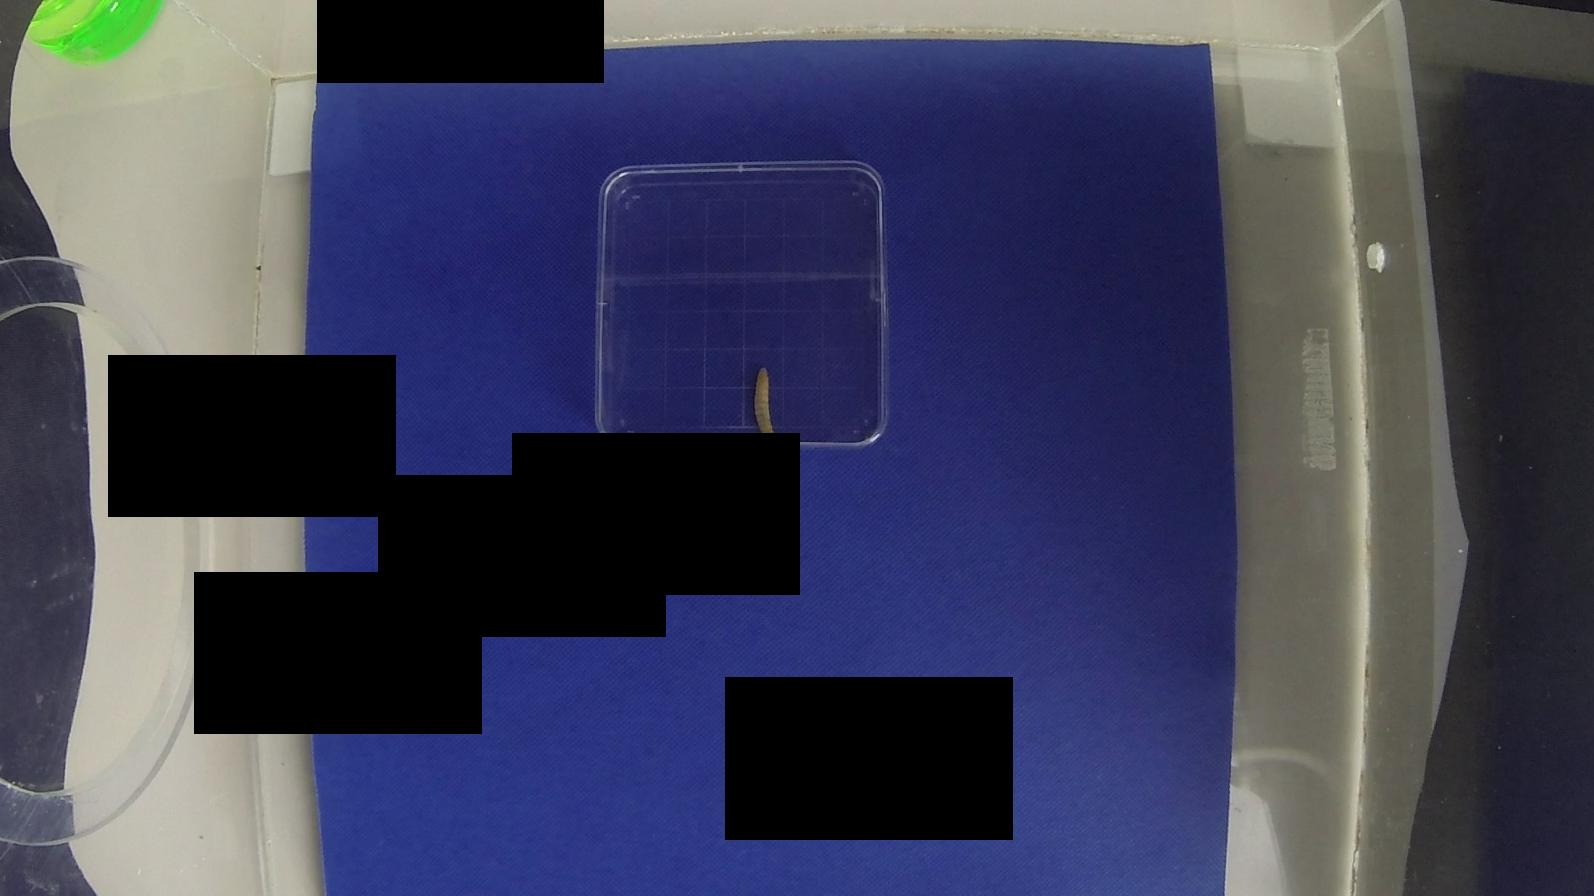larva: (742, 359, 784, 439)
